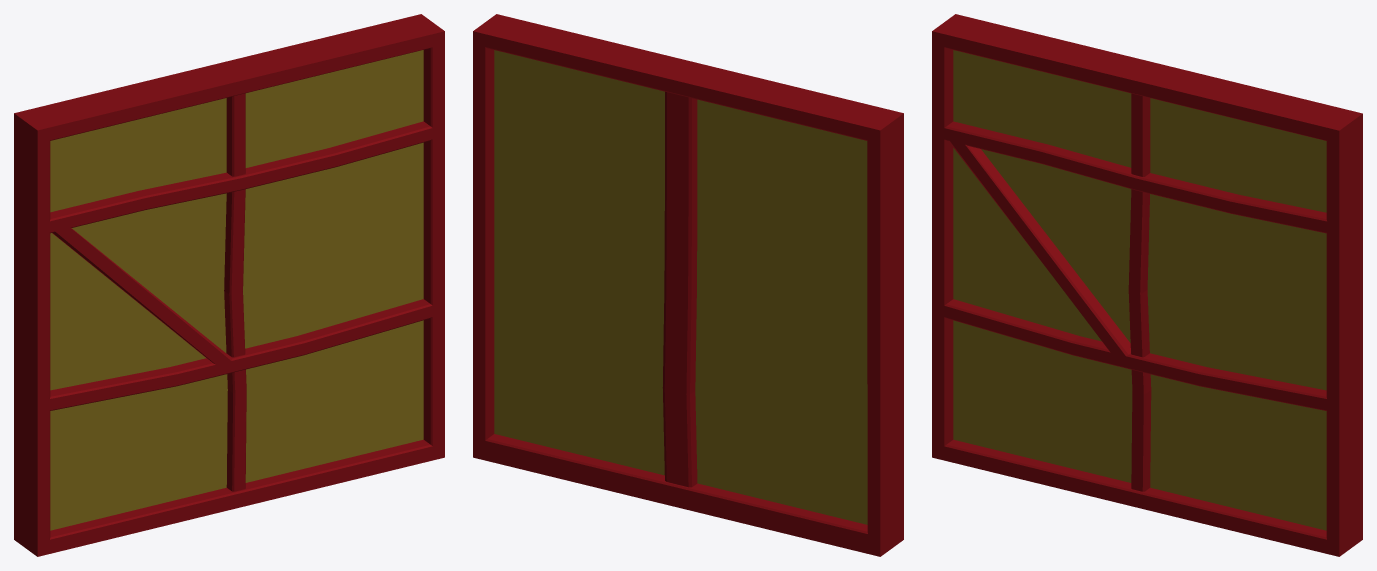
File: SM_MH_01_Plaster_Wall_02.fbx
3 views of the same model, side by side, from view 1: azimuth 30°, elevation 25°; view 2: azimuth 150°, elevation 25°; view 3: azimuth 330°, elevation 25° (orthographic).
Visible parts, largest first — view 1: SM_MH_01_Plaster_Wall_02_LOD0; view 2: SM_MH_01_Plaster_Wall_02_LOD0; view 3: SM_MH_01_Plaster_Wall_02_LOD0.
Boxes of the visible parts, <box> form: SM_MH_01_Plaster_Wall_02_LOD0: <box>14,14,444,556</box>; SM_MH_01_Plaster_Wall_02_LOD0: <box>473,14,903,556</box>; SM_MH_01_Plaster_Wall_02_LOD0: <box>932,14,1362,556</box>.
Size of what is drawn, in the model's own units: 300 by 300 by 30.
